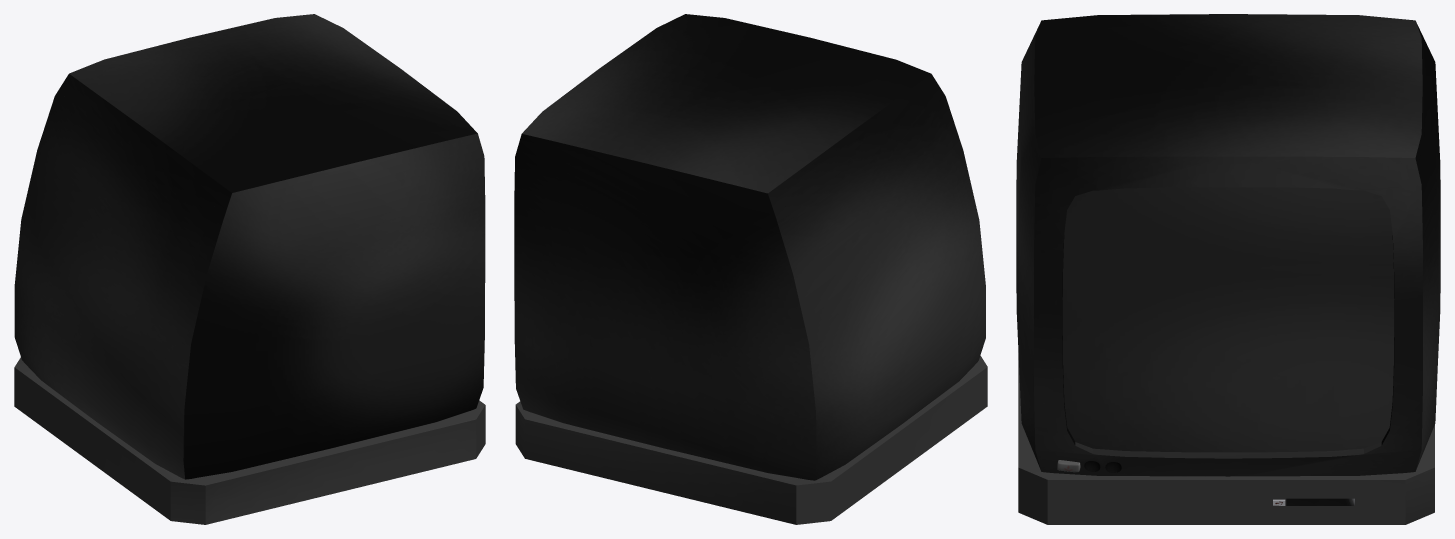
The picture shows the model from 3 angles, left to right: view 1: azimuth 30°, elevation 25°; view 2: azimuth 150°, elevation 25°; view 3: azimuth 270°, elevation 25°; orthographic projection. The views are drawn at different scales.
Parts seen in each view (by area): view 1: TV; view 2: TV; view 3: TV.
Part boxes in pixels (x1,y1,x2,y2): TV: (14, 14, 485, 524); TV: (514, 14, 987, 524); TV: (1016, 14, 1440, 524).
Size of the model in its own units: 200 by 195 by 199.
2 materials, 2 textured.
